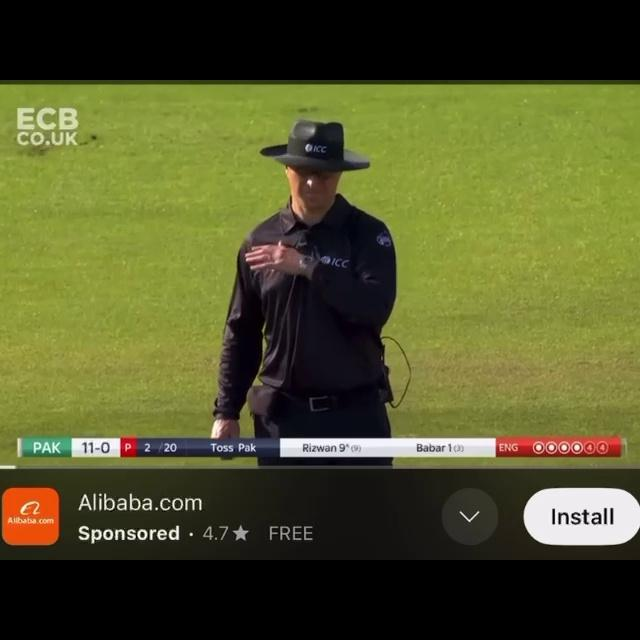umpire: (145, 110, 499, 429)
